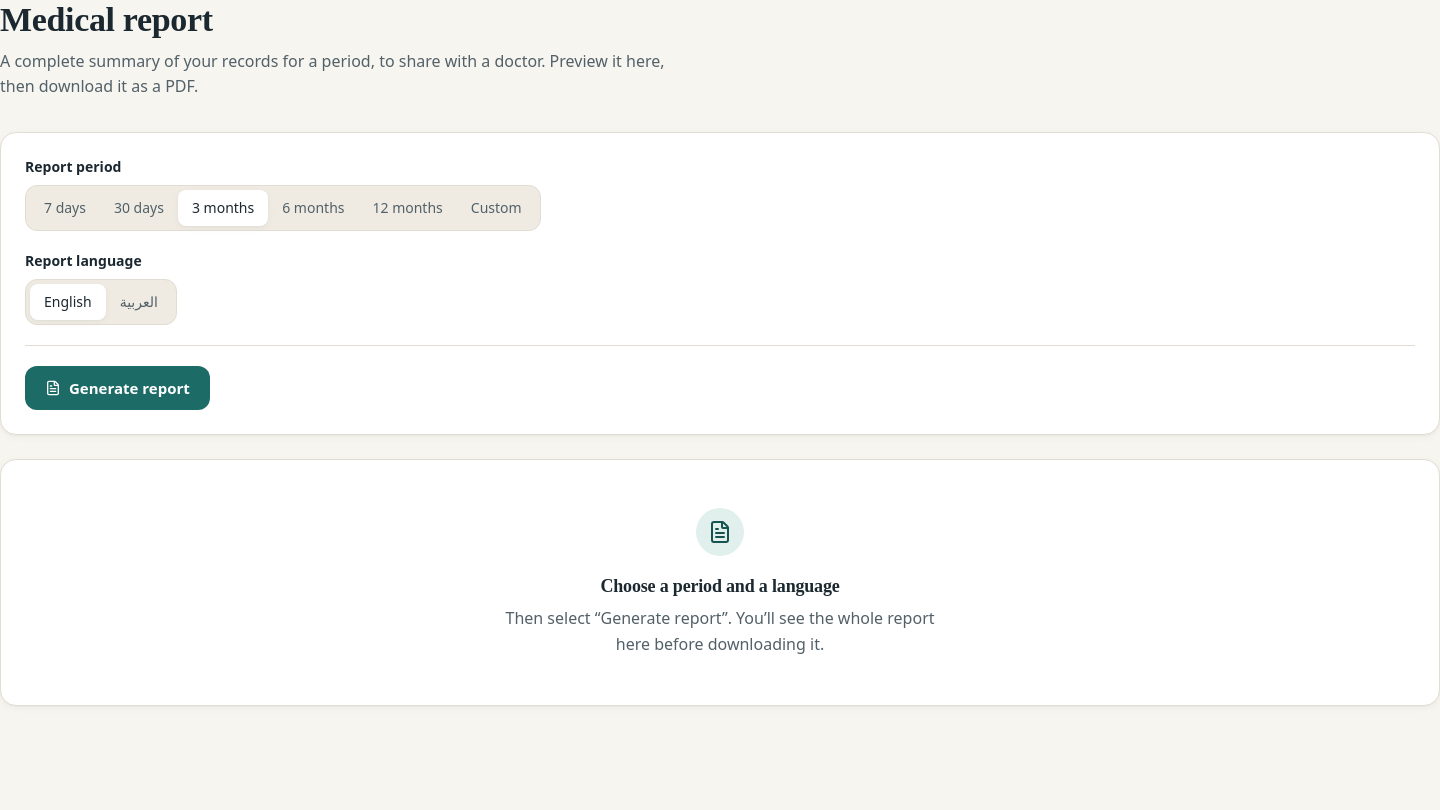
Test case: MedicalReportPage › shows an error with a working retry
The width and height of the screenshot is (1440, 810).
Click the button "Generate report". click: coordinates (117, 388)
box: x1=25 y1=366 x2=210 y2=410
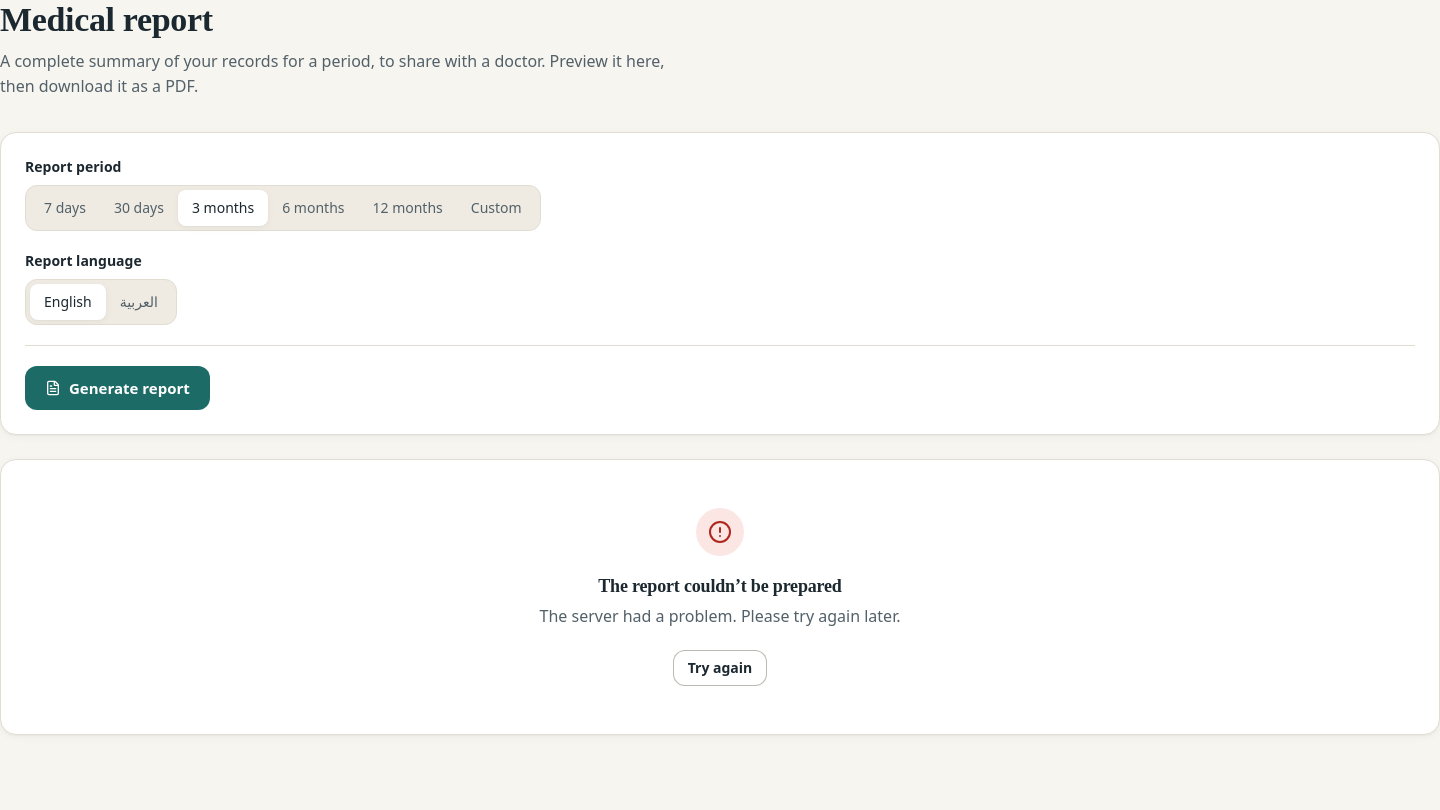
Result: the heading "The report couldn’t be prepared" is shown at x1=598 y1=572 x2=842 y2=600
Result: the text "The server had a problem. Please try again later." is shown at x1=540 y1=604 x2=900 y2=630
Click the button "Try again". click: coordinates (720, 668)
box: x1=673 y1=650 x2=767 y2=686
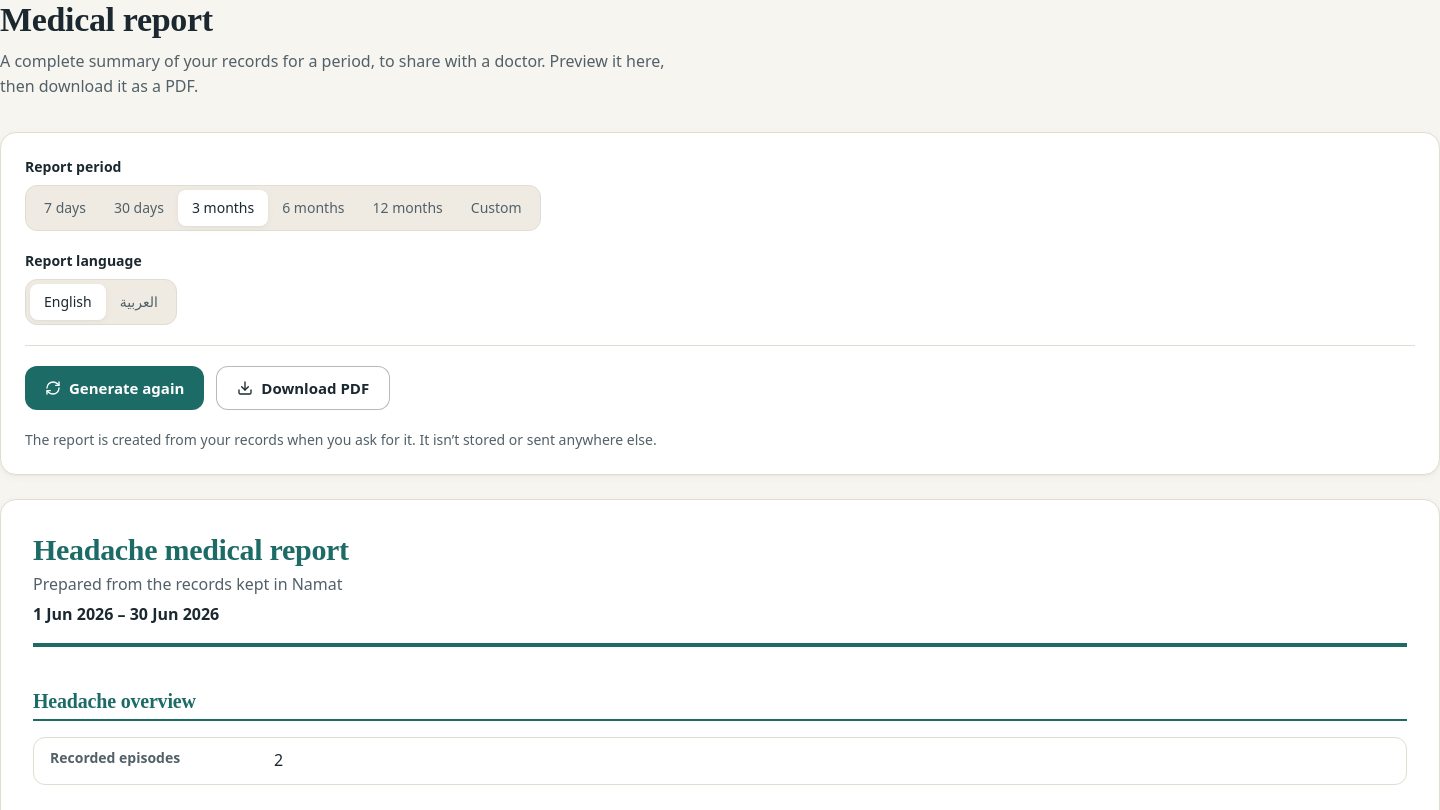
Result: the heading "Headache medical report" is shown at x1=33 y1=533 x2=349 y2=566
